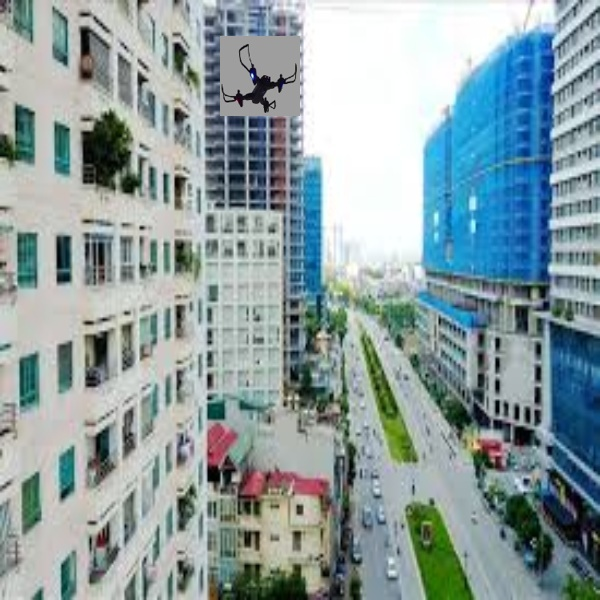drone: (222, 34, 301, 117)
